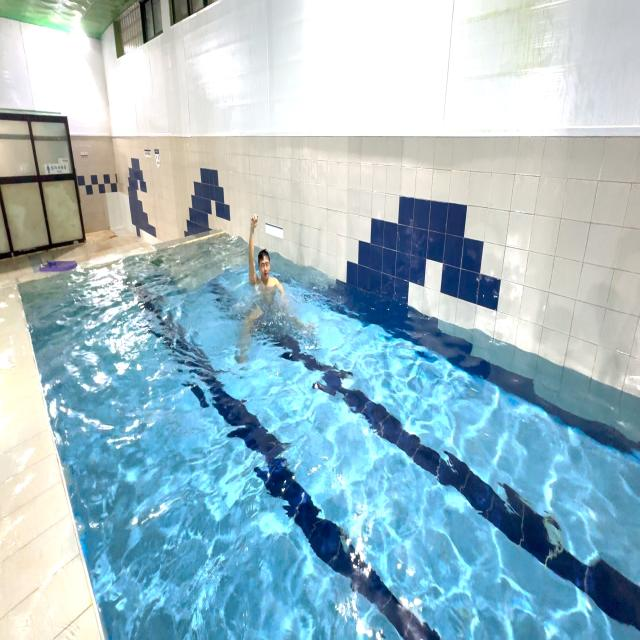Drowning: (233, 207, 312, 370)
